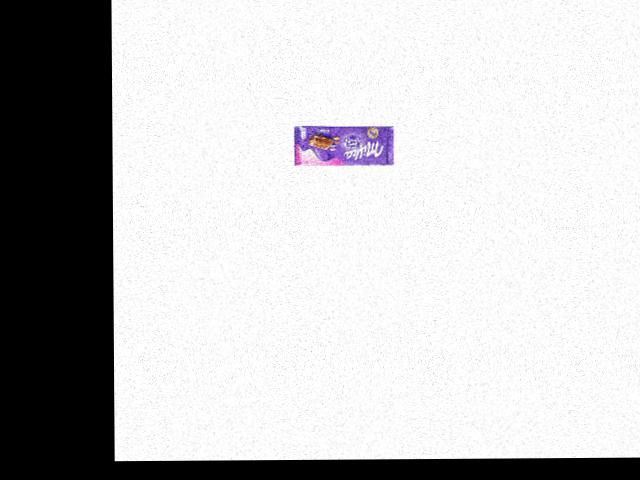chocolate: (294, 124, 394, 166)
